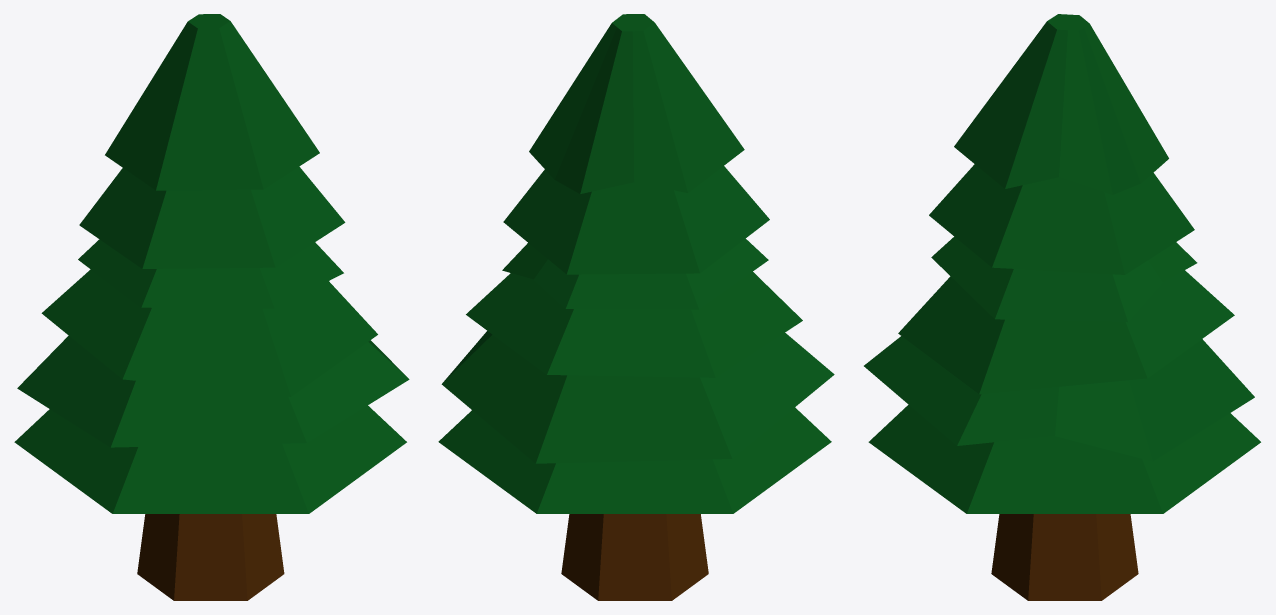
Rendered from tree1.fbx.
The picture shows the model from 3 angles, left to right: view 1: azimuth 30°, elevation 25°; view 2: azimuth 150°, elevation 25°; view 3: azimuth 270°, elevation 25°; orthographic projection.
Parts seen in each view (by area): view 1: Cylinder.003, Cylinder.001, Cylinder.006, Cylinder.002, Cylinder.005, Cylinder, Cylinder.004; view 2: Cylinder.002, Cylinder.006, Cylinder.003, Cylinder.001, Cylinder.005, Cylinder, Cylinder.004; view 3: Cylinder.002, Cylinder.001, Cylinder.006, Cylinder.003, Cylinder.005, Cylinder, Cylinder.004.
Part boxes in pixels (<box>): Cylinder.003: <box>41,269,377,396</box>; Cylinder.001: <box>14,405,406,513</box>; Cylinder.006: <box>105,14,319,190</box>; Cylinder.002: <box>17,335,409,447</box>; Cylinder.005: <box>79,166,345,268</box>; Cylinder: <box>137,514,284,600</box>; Cylinder.004: <box>78,239,343,308</box>; Cylinder.002: <box>441,331,834,463</box>; Cylinder.006: <box>529,14,744,194</box>; Cylinder.003: <box>466,271,802,377</box>; Cylinder.001: <box>438,407,831,513</box>; Cylinder.005: <box>503,166,769,274</box>; Cylinder: <box>561,514,708,600</box>; Cylinder.004: <box>502,238,768,309</box>; Cylinder.002: <box>864,336,1254,461</box>; Cylinder.001: <box>868,404,1260,513</box>; Cylinder.006: <box>954,14,1168,194</box>; Cylinder.003: <box>898,270,1234,394</box>; Cylinder.005: <box>929,164,1194,274</box>; Cylinder: <box>991,514,1138,600</box>; Cylinder.004: <box>931,236,1197,322</box>.
Bounding box in the file's own units: 469 × 828 × 541.
